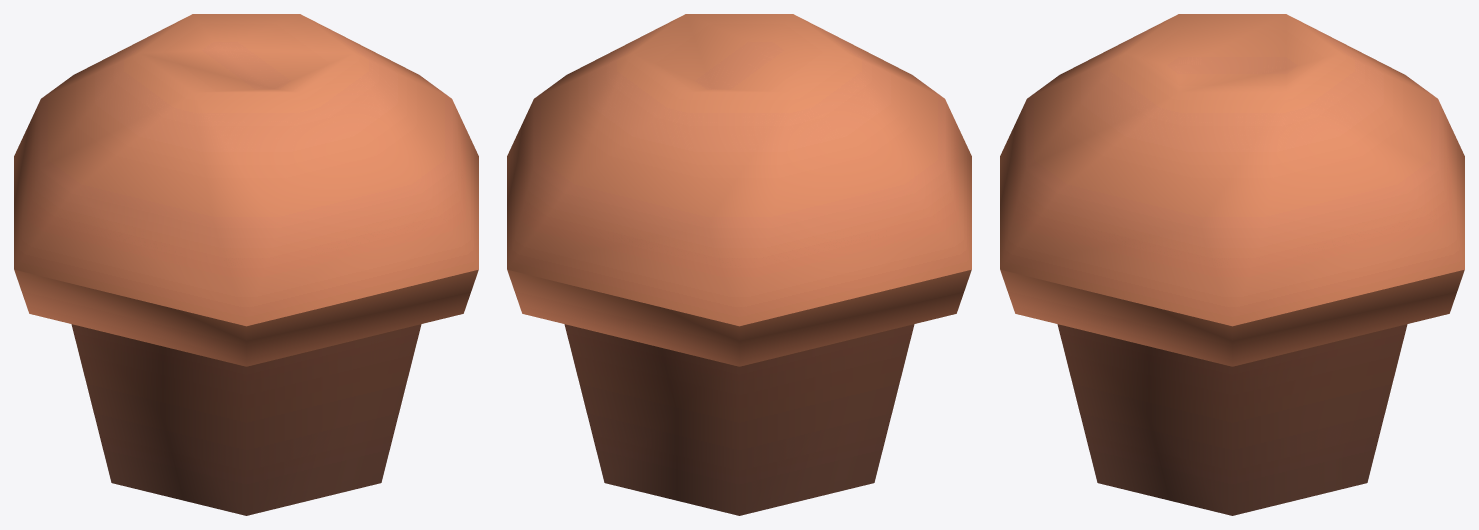
Rendered from muffin.glb.
3 renders of one model, left to right at view 1: azimuth 30°, elevation 25°; view 2: azimuth 150°, elevation 25°; view 3: azimuth 270°, elevation 25°, orthographic.
Visible parts, largest first — view 1: muffin; view 2: muffin; view 3: muffin.
Part boxes in pixels (x1,y1,x2,y2): muffin: (14,14,478,515); muffin: (507,14,971,515); muffin: (1000,14,1464,515).
Size of the model in its own units: 0.3047 by 0.2486 by 0.2639.
Materials: 1 (1 with a texture image).
